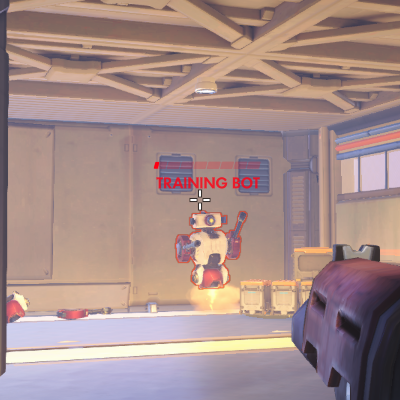hpbar: (153, 161, 261, 170)
